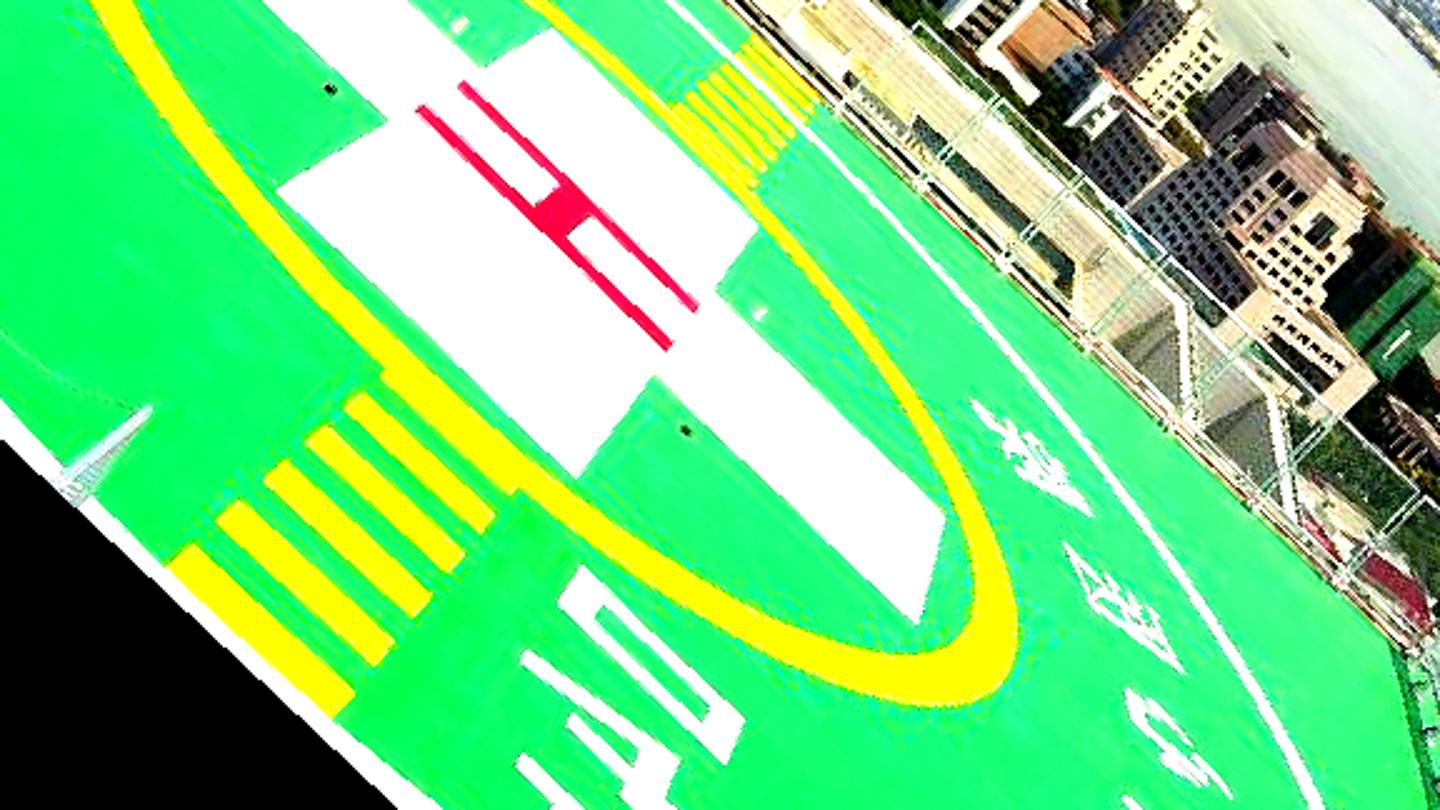Apron: (80, 1, 1041, 720)
